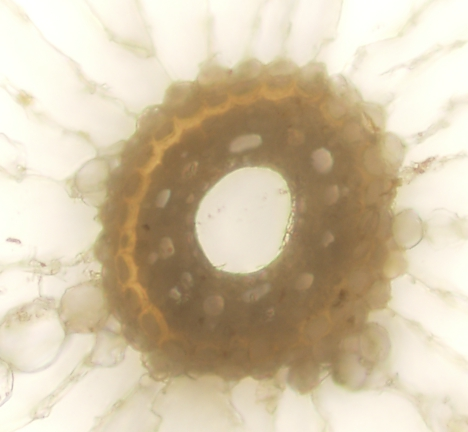lm: (194, 166, 294, 274)
